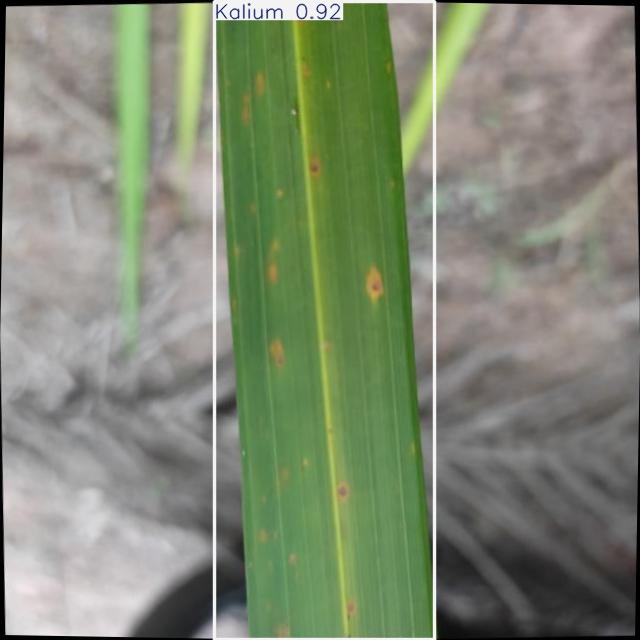Kalium: (214, 1, 434, 639)
